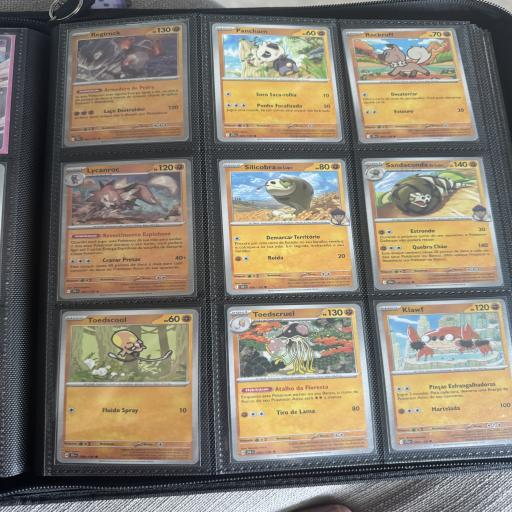card: (227, 301, 375, 461), (56, 307, 202, 465), (361, 145, 505, 299), (375, 298, 512, 451), (53, 158, 197, 301), (218, 152, 358, 299), (55, 22, 196, 152), (341, 28, 480, 144), (211, 23, 343, 142)
